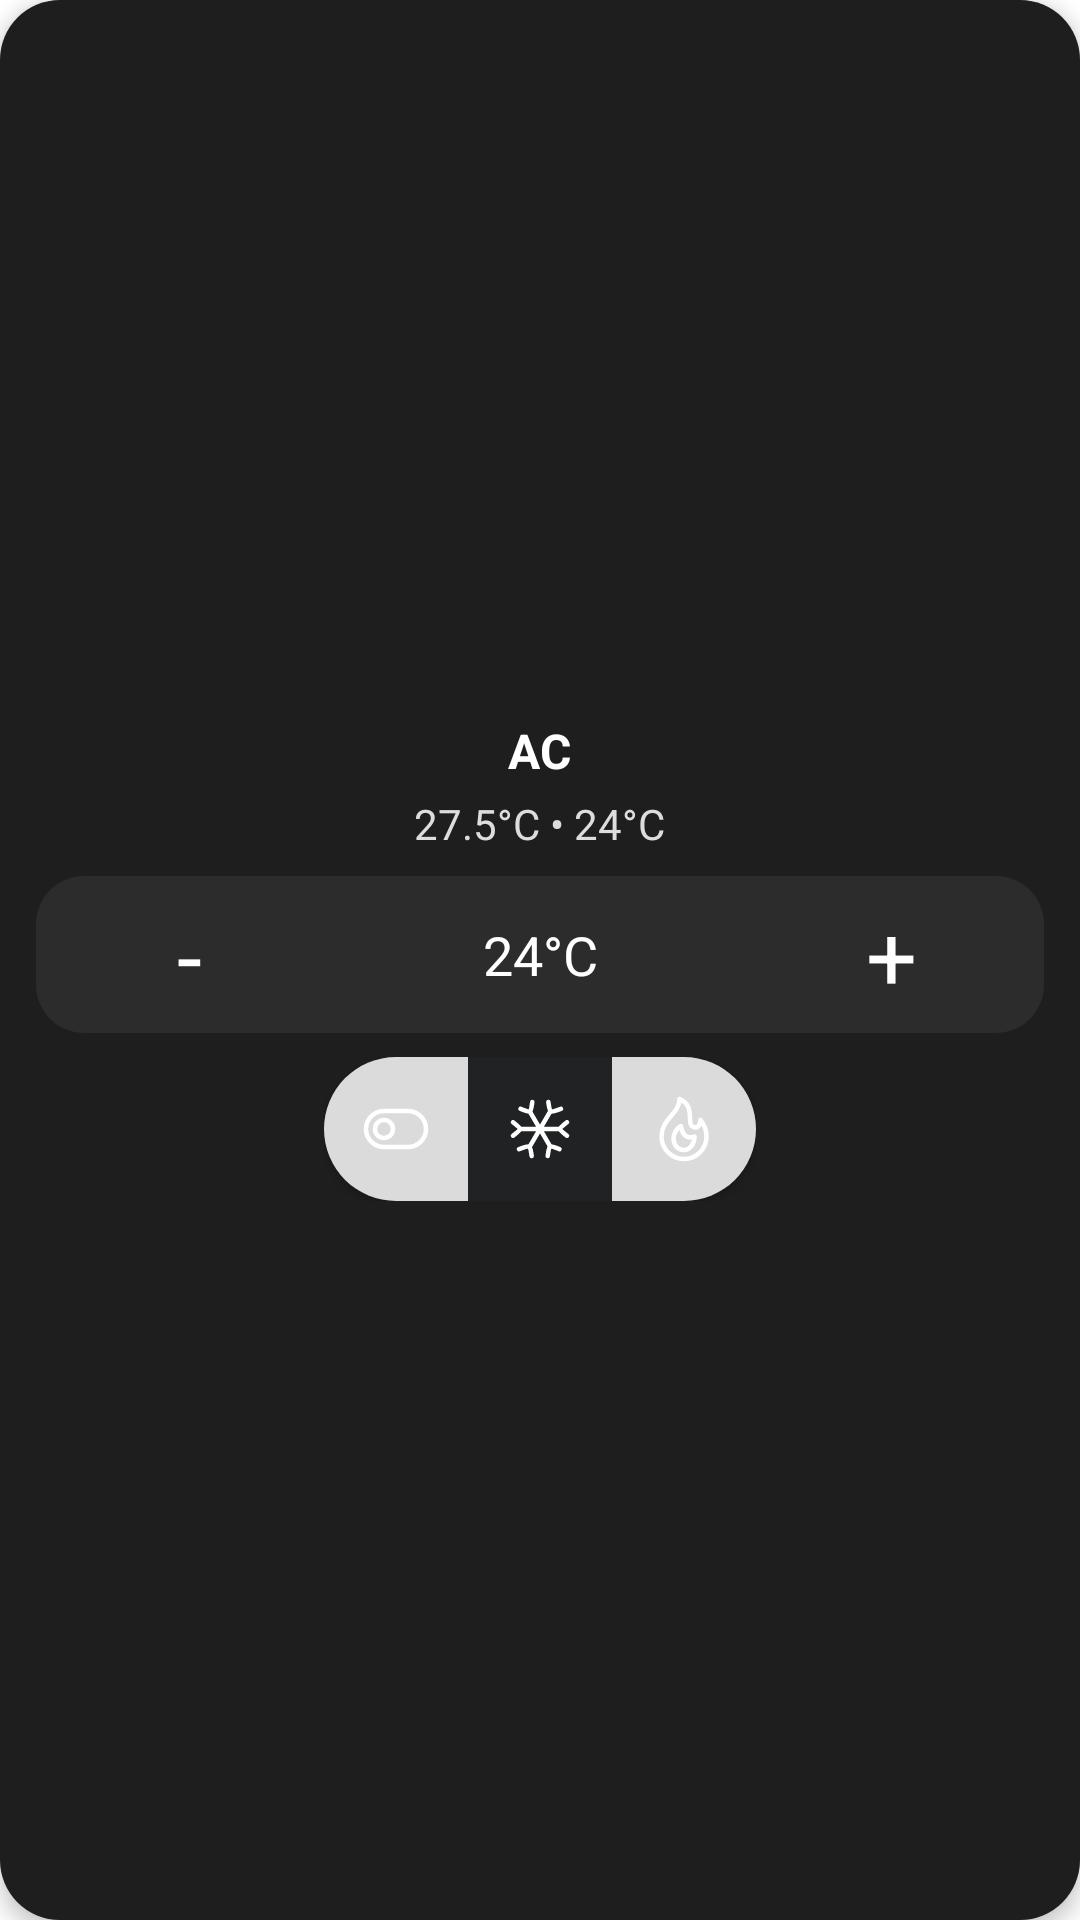

Locate icon controls on the screen. Image size 1080x1920, boxes as (x1=x1, y1=y1, x2=x2, y2=y2).
Cool: (x1=510, y1=1099, x2=570, y2=1159)
Heat: (x1=612, y1=1057, x2=756, y2=1201)
Power: (x1=324, y1=1057, x2=468, y2=1201)
